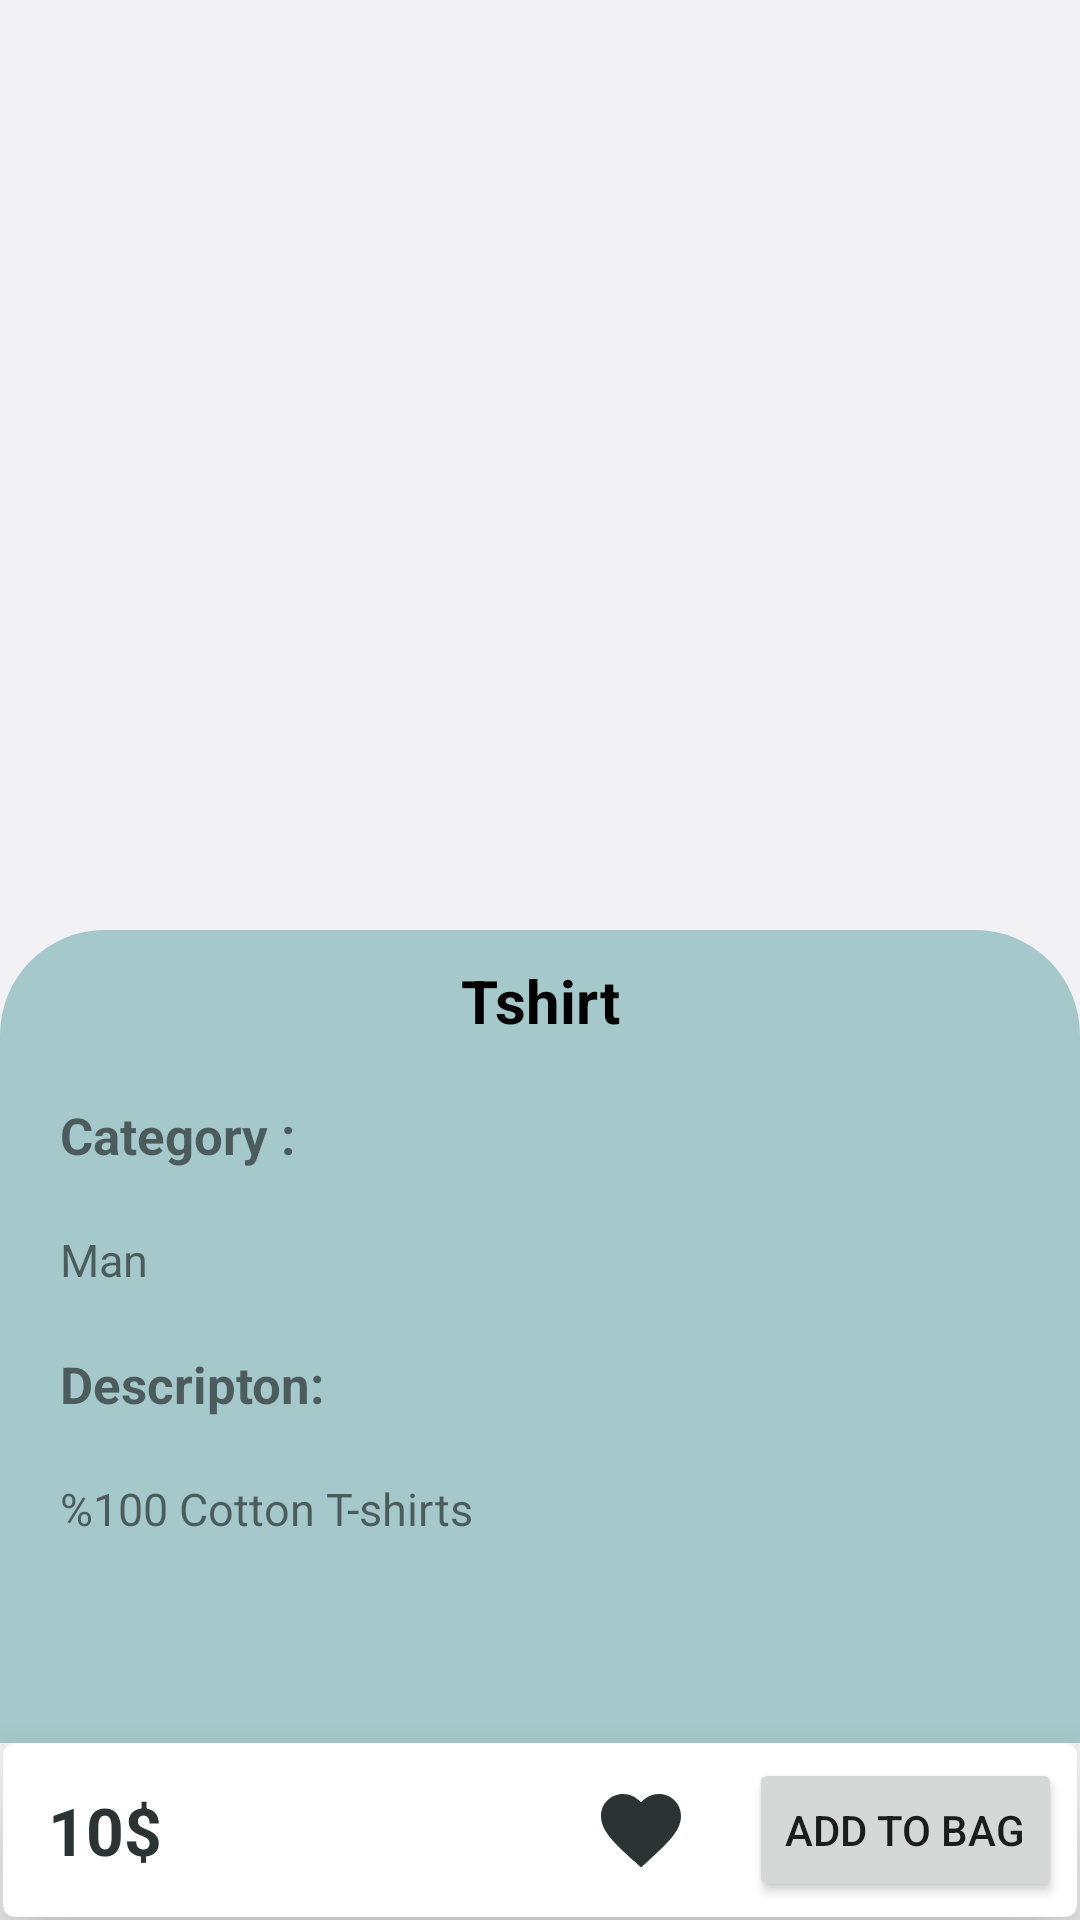

Locate icon controls on the screen. Image size 1080 x 1920, boxes as bbox(x1, y1, x2, y2).
favorite: bbox(601, 1794, 681, 1868)
